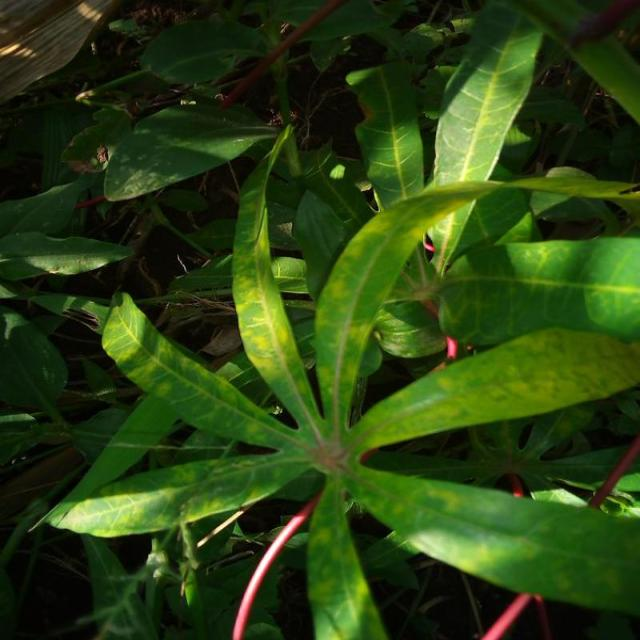cassava leaf: (37, 4, 638, 636), (436, 234, 638, 346), (103, 99, 280, 202)
